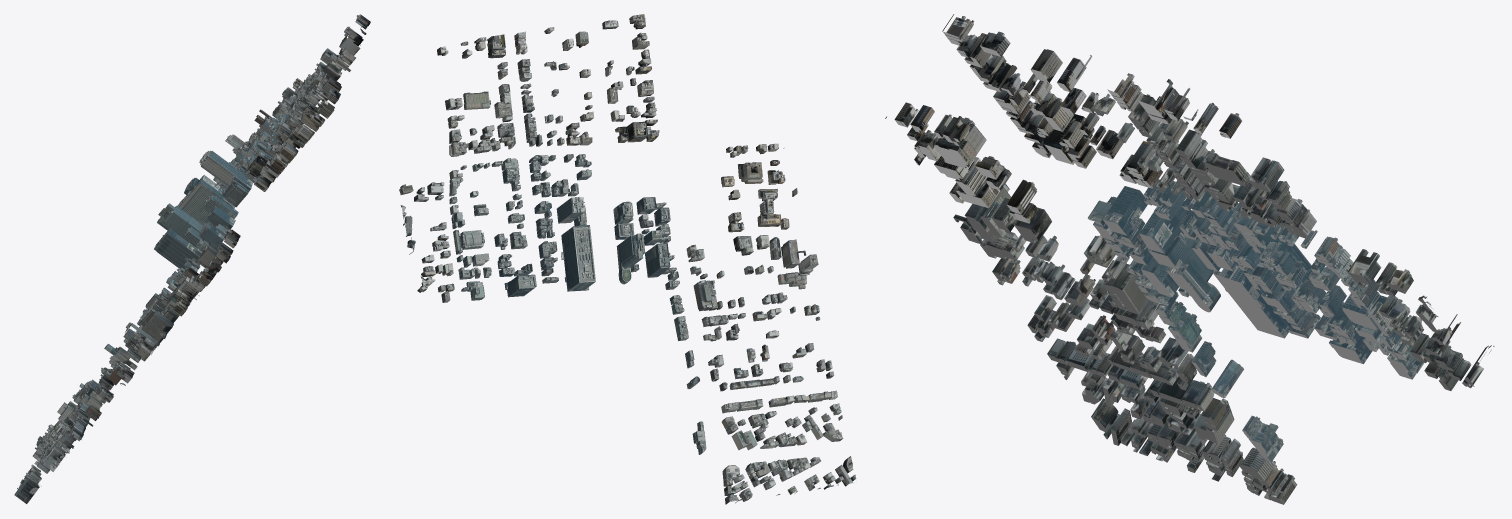
File: 4942_bldg_Building.glb
3 renders of one model, left to right at view 1: azimuth 30°, elevation 25°; view 2: azimuth 150°, elevation 25°; view 3: azimuth 270°, elevation 25°, orthographic. The views are drawn at different scales.
Size of the model in its own units: 1091 by 1017 by 876.
12 materials, 8 textured.
